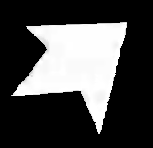Plane: (5, 11, 137, 139)
